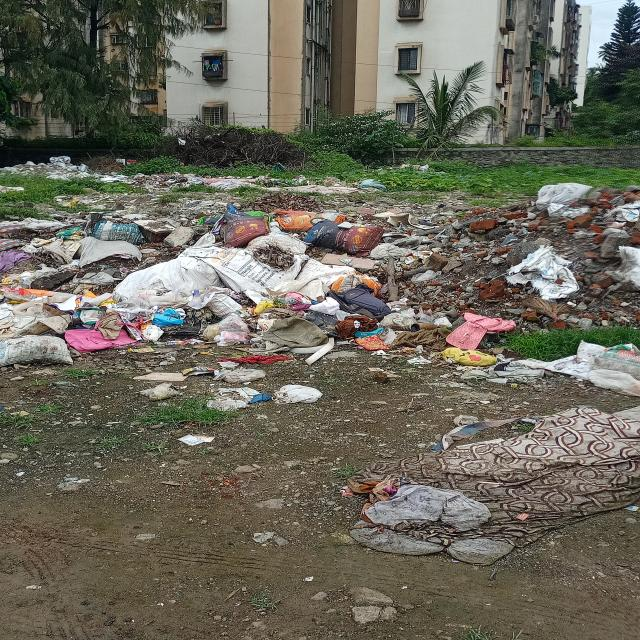garbage: (10, 188, 640, 393), (371, 408, 640, 561)
